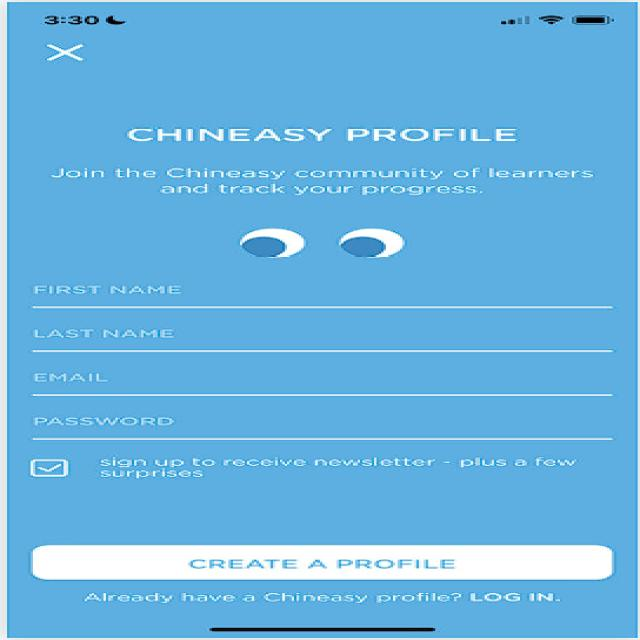button: (21, 539, 630, 585)
icon button: (33, 33, 117, 70)
input: (21, 402, 623, 445), (18, 360, 628, 400), (21, 276, 623, 315), (18, 319, 626, 357)
text: (27, 118, 614, 203), (24, 457, 595, 482), (74, 588, 576, 606)
view: (233, 219, 414, 265)
